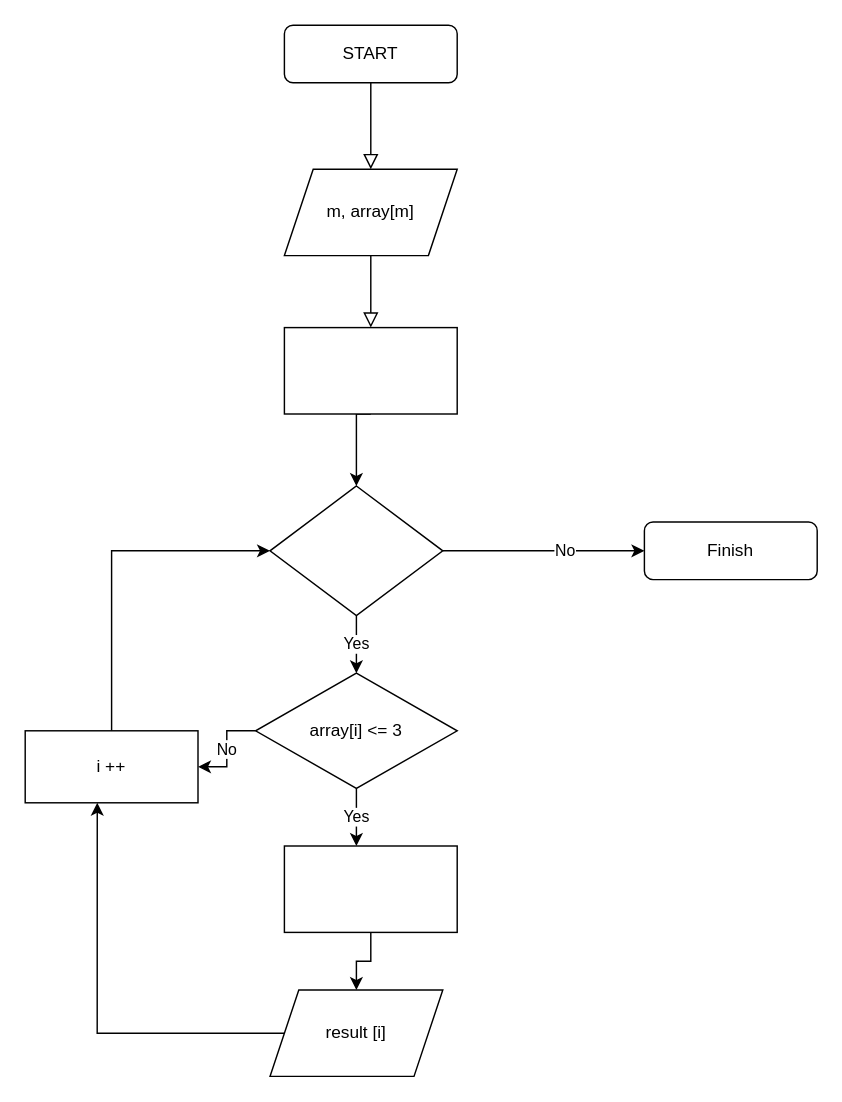
The diagram is 842 pixels wide and 1102 high, and some of its shapes have lost their labels. The shapes that lost their labels are listed below. From the top down, each one's centre as x and y in pixels, then its label:
At point (370, 370): "i = 0 result[array.Length]".
At point (356, 550): "i < array.Length".
At point (370, 888): "result[i] = array[i]".
